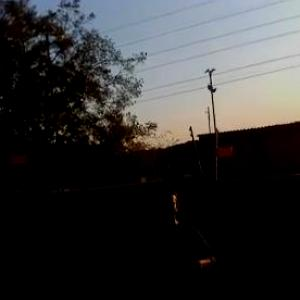follow: (132, 169, 225, 299)
